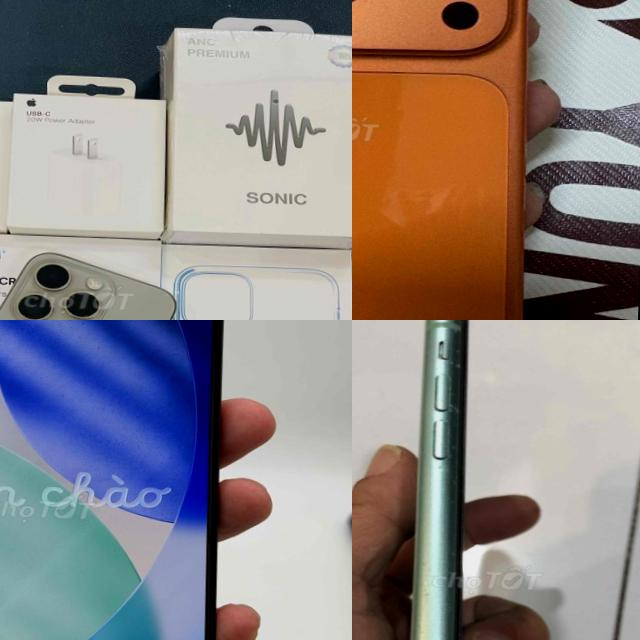gen_11: (409, 320, 467, 640)
gen_15: (0, 320, 257, 640)
gen_17: (352, 0, 553, 320)
scratch: (428, 320, 466, 519), (413, 558, 442, 623), (446, 550, 464, 570)
